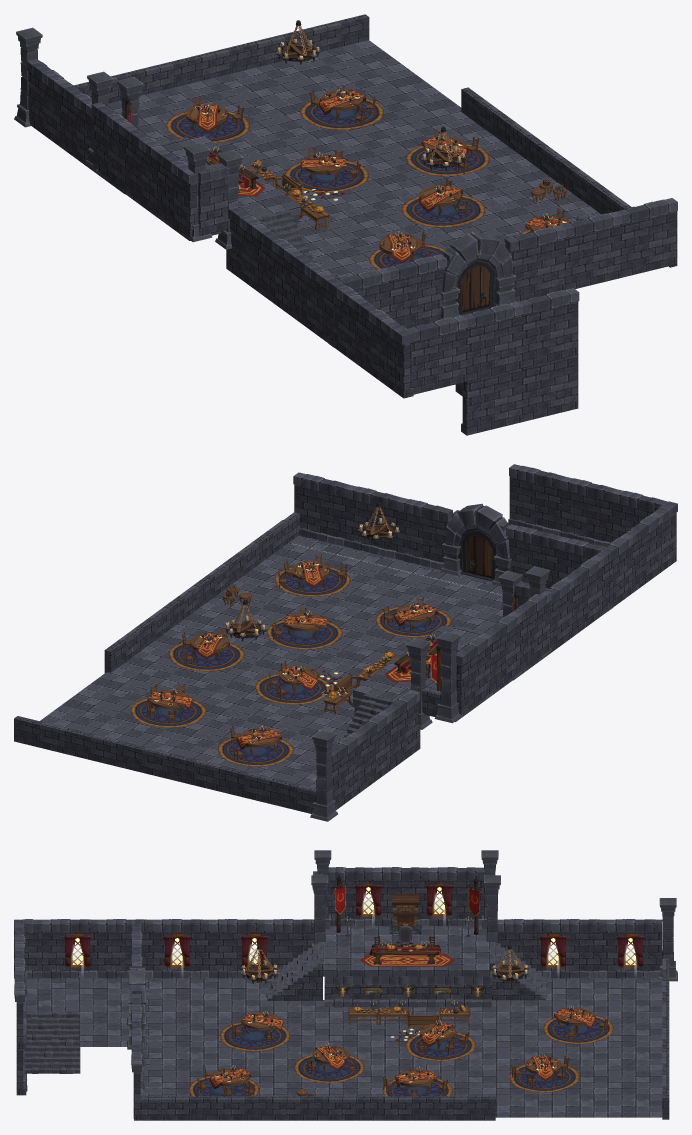
File: BanquetRoomAssets.gltf
3 views of the same model, one above another, from view 1: azimuth 30°, elevation 25°; view 2: azimuth 150°, elevation 25°; view 3: azimuth 270°, elevation 25° (orthographic). The views are drawn at different scales.
Visible parts, largest first — view 1: P_MOD_Wall_01_E_straight_med (×20), P_MOD_WallCover_01_E_straight (1) (×16), P_MOD_Gateway_Arc_01, MOD_Floor_01_O_straight_med, MOD_Floor_01_O_straight_med (3), MOD_Floor_01_O_straight_med (22), MOD_Floor_01_O_straight_med (1), P_PROP_rug_interior_07 (4), MOD_Floor_01_O_straight_med (13), MOD_Floor_01_O_straight_med (18), MOD_Floor_01_O_straight_med (4), MOD_Floor_01_O_straight_med (29) (+44 smaller); view 2: P_MOD_Wall_01_E_straight_med (×18), P_MOD_WallCover_01_E_straight (1) (×16), P_MOD_Column_01_large (×3), P_MOD_Gateway_Arc_01, MOD_Floor_01_O_straight_med, MOD_Floor_01_O_straight_med (26), MOD_Floor_01_O_straight_med (3), MOD_Floor_01_O_straight_med (35), MOD_Floor_01_O_straight_med (18), MOD_Wall_01_E_straight_small (5), MOD_Wall_01_E_straight_small (4), MOD_Wall_01_E_straight_small (1) (+51 smaller); view 3: P_MOD_Wall_01_E_straight_med (×11), P_MOD_WallCover_01_E_straight (1) (×11), P_MOD_Stairs_01_E_straight_2 (2), P_MOD_Wall_01_E_straight_small (×3), P_MOD_WallTrim_01_E_straight (1) (×4), P_MOD_Column_01_large (×3), P_MOD_WallCover_01_E_straight (×3), P_MOD_Floor_01_E_straight_med, P_MOD_Floor_01_E_straight_med (4), P_MOD_WallTrim_01_E_straight (×3), MOD_Wall_01_E_straight_small (6), MOD_Wall_01_E_straight_small (9) (+78 smaller).
Boxes of the visible parts, <box> form: P_MOD_Wall_01_E_straight_med (×20): <box>28,71,677,435</box>; P_MOD_WallCover_01_E_straight (1) (×16): <box>26,59,677,341</box>; P_MOD_Gateway_Arc_01: <box>442,231,512,292</box>; MOD_Floor_01_O_straight_med: <box>345,63,432,100</box>; MOD_Floor_01_O_straight_med (3): <box>377,87,461,123</box>; MOD_Floor_01_O_straight_med (22): <box>202,67,288,103</box>; MOD_Floor_01_O_straight_med (1): <box>315,40,399,76</box>; P_PROP_rug_interior_07 (4): <box>401,195,485,227</box>; MOD_Floor_01_O_straight_med (13): <box>257,57,344,90</box>; MOD_Floor_01_O_straight_med (18): <box>233,90,306,127</box>; MOD_Floor_01_O_straight_med (4): <box>474,159,556,194</box>; MOD_Floor_01_O_straight_med (29): <box>318,198,393,235</box>; P_MOD_Wall_01_E_straight_med (×18): <box>294,476,661,810</box>; P_MOD_WallCover_01_E_straight (1) (×16): <box>293,464,667,742</box>; P_MOD_Column_01_large (×3): <box>315,644,457,805</box>; P_MOD_Gateway_Arc_01: <box>445,503,509,559</box>; MOD_Floor_01_O_straight_med: <box>47,694,127,728</box>; MOD_Floor_01_O_straight_med (26): <box>358,567,438,601</box>; MOD_Floor_01_O_straight_med (3): <box>77,672,157,706</box>; MOD_Floor_01_O_straight_med (35): <box>409,579,489,613</box>; MOD_Floor_01_O_straight_med (18): <box>150,723,230,752</box>; MOD_Wall_01_E_straight_small (5): <box>14,716,68,753</box>; MOD_Wall_01_E_straight_small (4): <box>65,728,119,766</box>; MOD_Wall_01_E_straight_small (1): <box>219,766,274,803</box>; P_MOD_Wall_01_E_straight_med (×11): <box>42,879,662,971</box>; P_MOD_WallCover_01_E_straight (1) (×11): <box>42,867,662,932</box>; P_MOD_Stairs_01_E_straight_2 (2): <box>24,1012,80,1073</box>; P_MOD_Wall_01_E_straight_small (×3): <box>324,984,491,999</box>; P_MOD_WallTrim_01_E_straight (1) (×4): <box>42,970,660,978</box>; P_MOD_Column_01_large (×3): <box>313,889,674,966</box>; P_MOD_WallCover_01_E_straight (×3): <box>324,971,491,985</box>; P_MOD_Floor_01_E_straight_med: <box>323,946,378,976</box>; P_MOD_Floor_01_E_straight_med (4): <box>434,946,489,976</box>; P_MOD_WallTrim_01_E_straight (×3): <box>324,999,491,1007</box>; MOD_Wall_01_E_straight_small (6): <box>439,1096,495,1120</box>; MOD_Wall_01_E_straight_small (9): <box>272,1096,328,1120</box>.
Bounding box in the file's own units: 27.46 × 12.33 × 47.67.
Materials: 20 (20 with a texture image).
